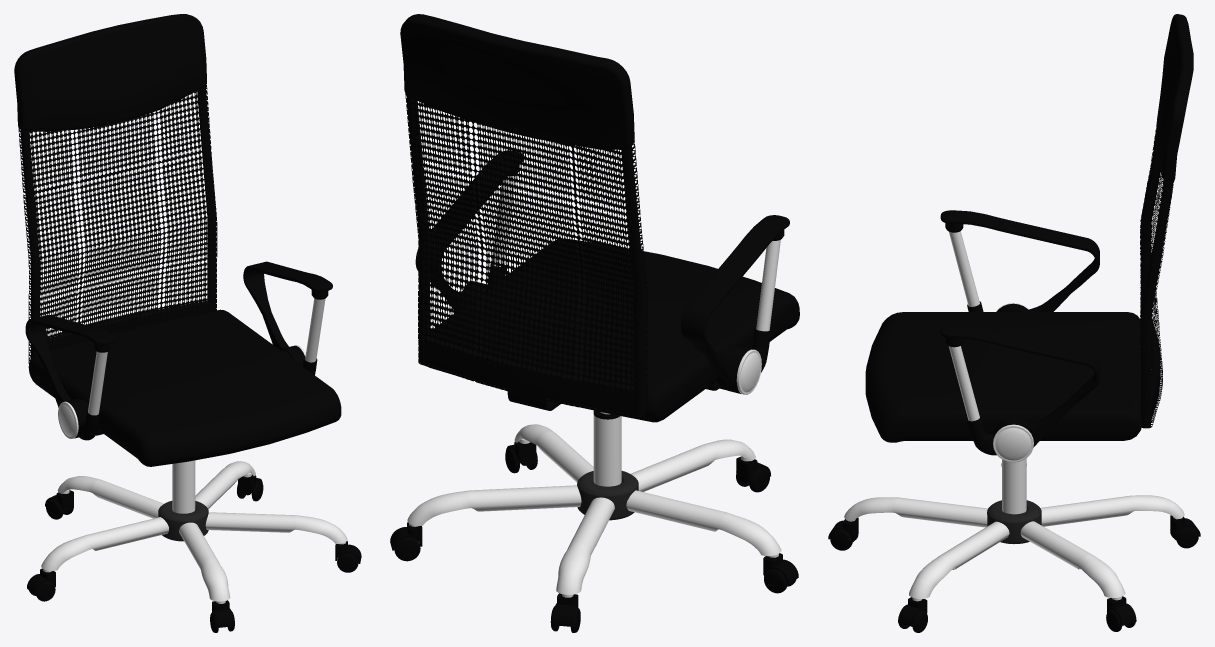
Rendered from OfficeChair.fbx.
3 renders of one model, left to right at view 1: azimuth 30°, elevation 25°; view 2: azimuth 150°, elevation 25°; view 3: azimuth 270°, elevation 25°, orthographic. The views are drawn at different scales.
Parts seen in each view (by area): view 1: OfficeChair; view 2: OfficeChair; view 3: OfficeChair.
Part boxes in pixels (x1,y1,x2,y2): OfficeChair: (14, 14, 361, 632); OfficeChair: (390, 14, 799, 632); OfficeChair: (828, 14, 1200, 632).
Bounding box in the file's own units: 1.19 × 1.25 × 1.91.
